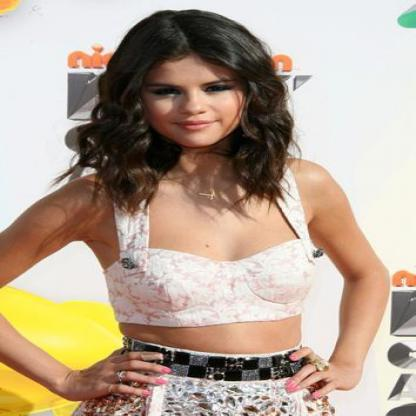long-hair: (101, 146, 290, 183)
